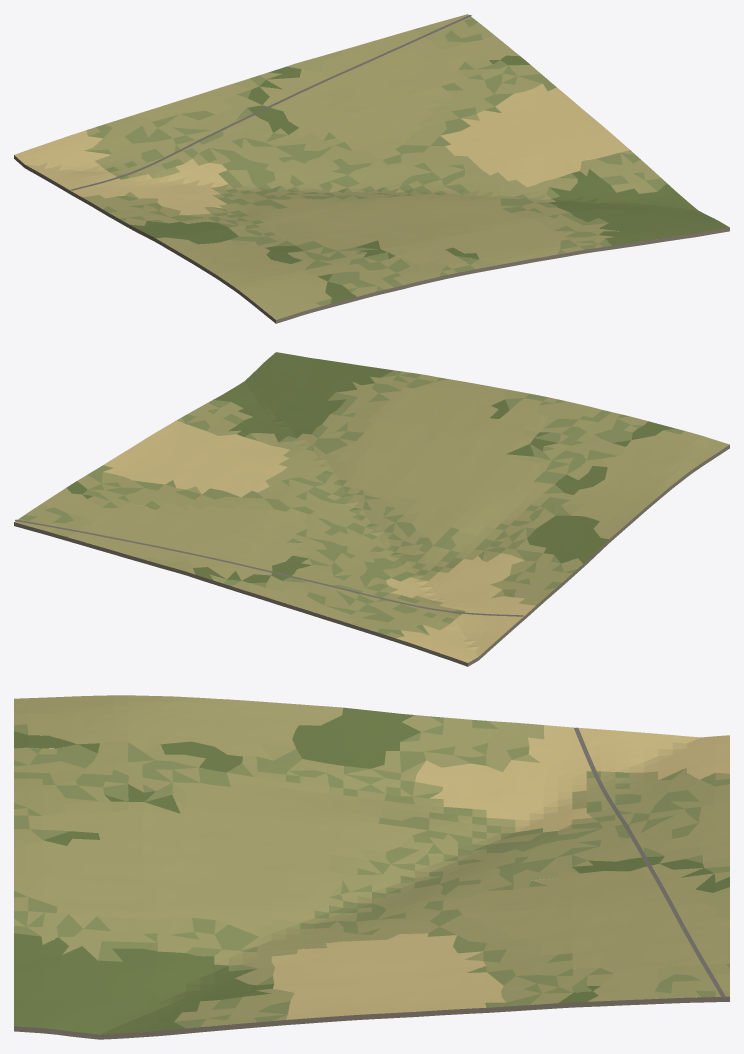
The model's file is parca_-1_-3-uzak.glb.
3 renders of one model, top to bottom at view 1: azimuth 30°, elevation 25°; view 2: azimuth 150°, elevation 25°; view 3: azimuth 270°, elevation 25°, orthographic. The views are drawn at different scales.
Visible parts, largest first — view 1: parca_-1_-3_arazi_uzak, parca_-1_-3_yollar_uzak; view 2: parca_-1_-3_arazi_uzak, parca_-1_-3_yollar_uzak; view 3: parca_-1_-3_arazi_uzak, parca_-1_-3_yollar_uzak.
Boxes of the visible parts, x1,y1,x2,y2 form: parca_-1_-3_arazi_uzak: (14,14,729,323); parca_-1_-3_yollar_uzak: (70,15,471,190); parca_-1_-3_arazi_uzak: (14,352,729,666); parca_-1_-3_yollar_uzak: (15,519,523,616); parca_-1_-3_arazi_uzak: (14,695,729,1039); parca_-1_-3_yollar_uzak: (574,727,725,997).
Bounding box in the file's own units: 1003 × 76.05 × 1000.
